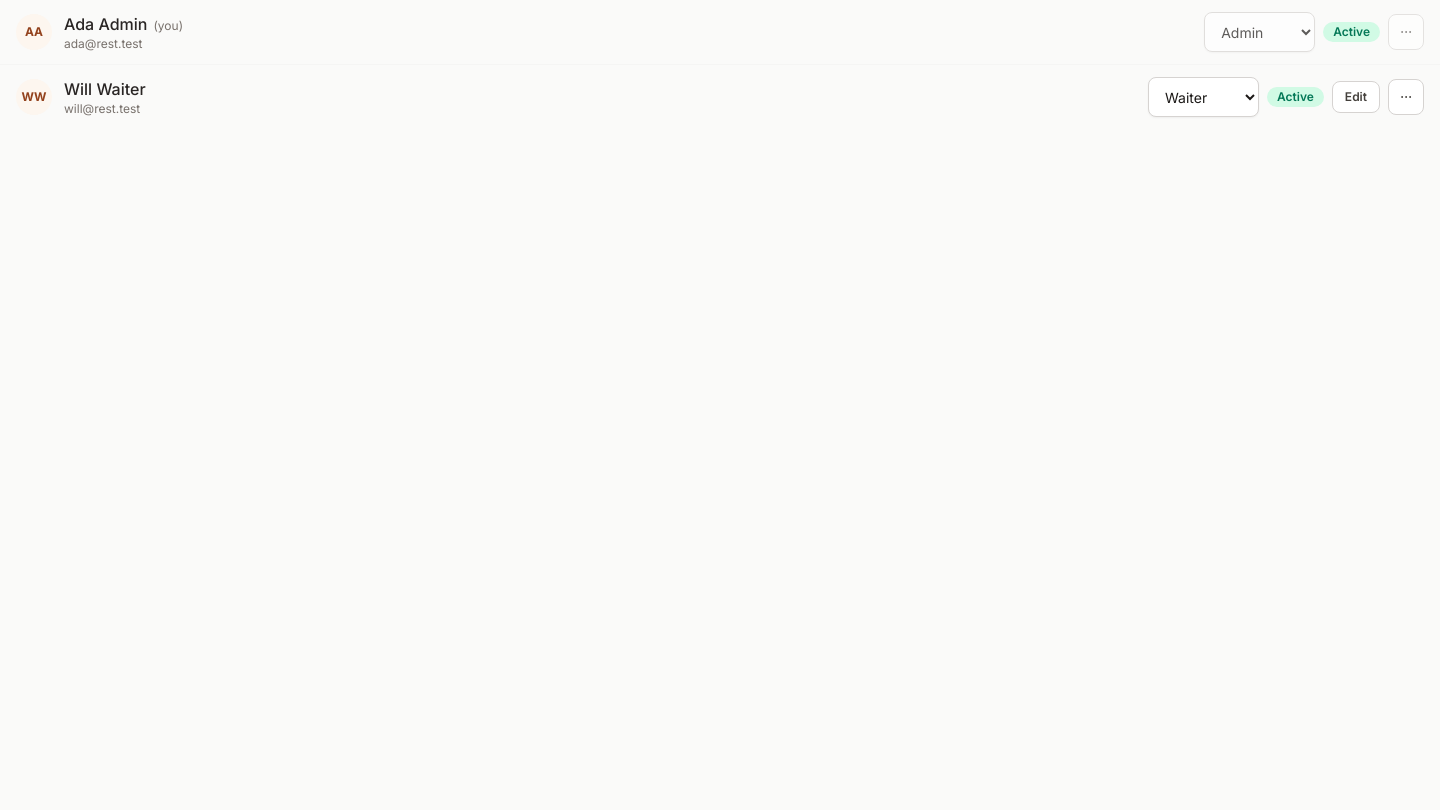
Test: AccountTable › removes an account only after the confirm dialog
The image size is (1440, 810).
Click the button named "More actions for Will Waiter": point(1406, 97) [1388,79,1424,115]
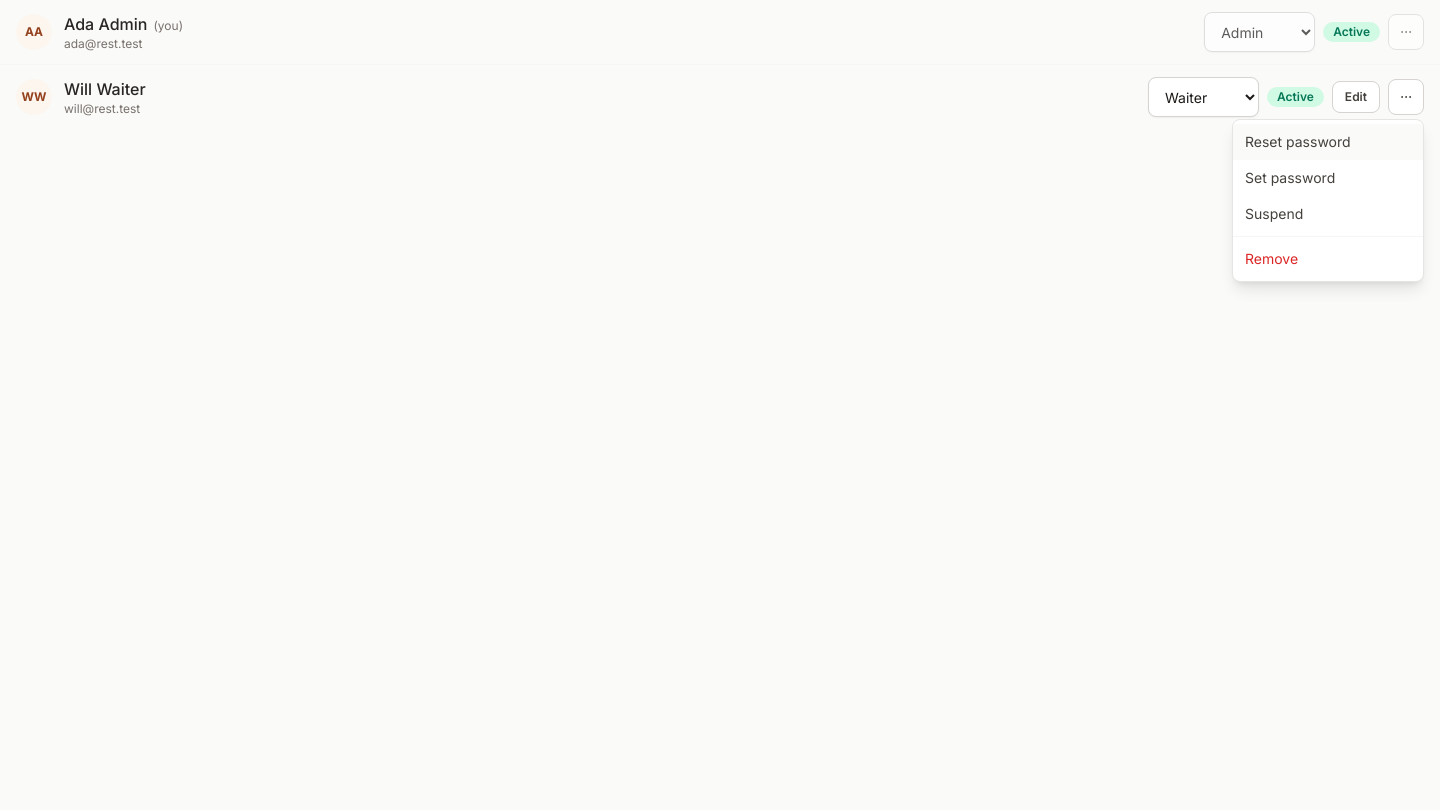
Click the menu item "Remove": point(1328, 259) [1233,241,1423,277]
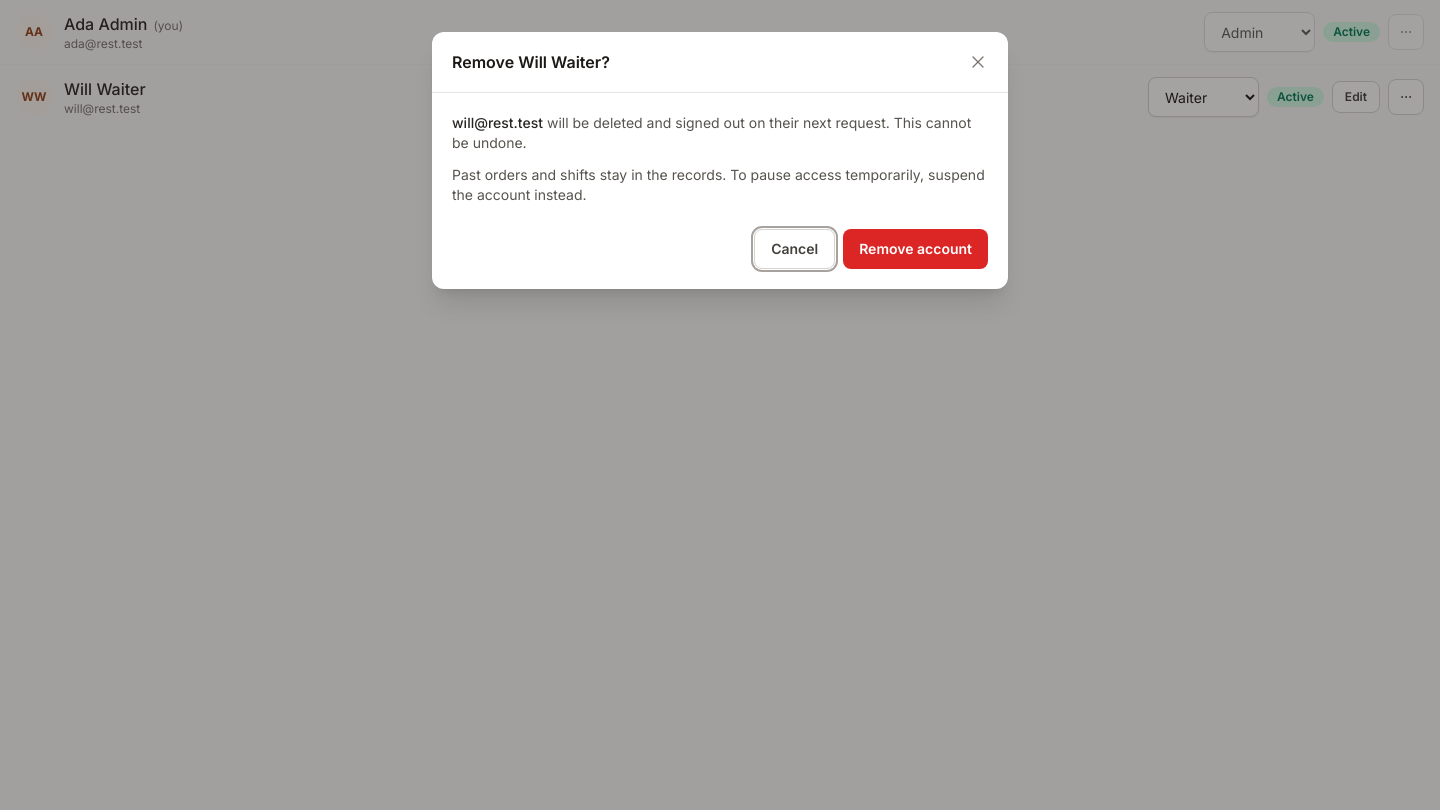
Now the dialog "Remove Will Waiter?" is shown
Click the button "Remove account": point(916, 249) [843,229,988,269]
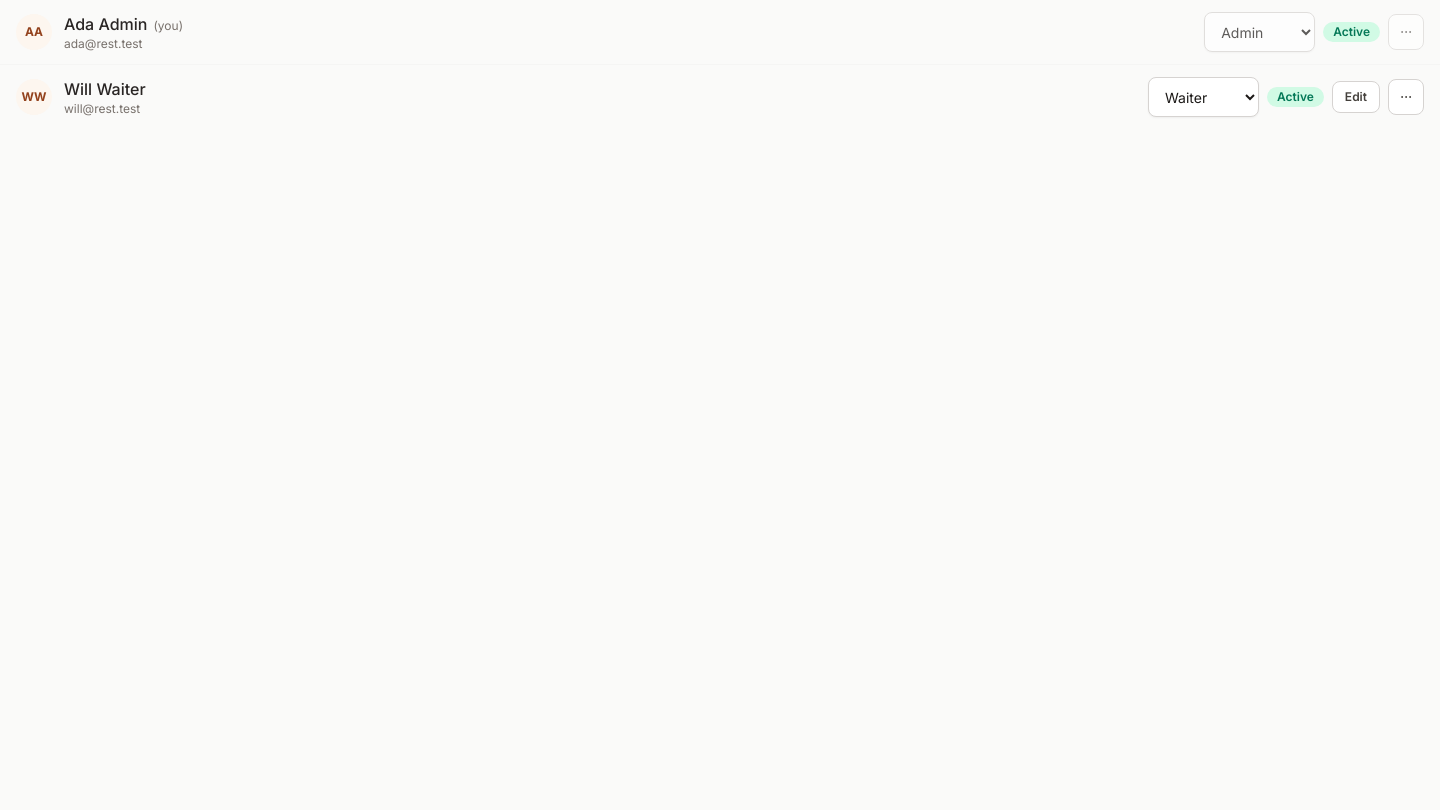
Now the dialog is gone
